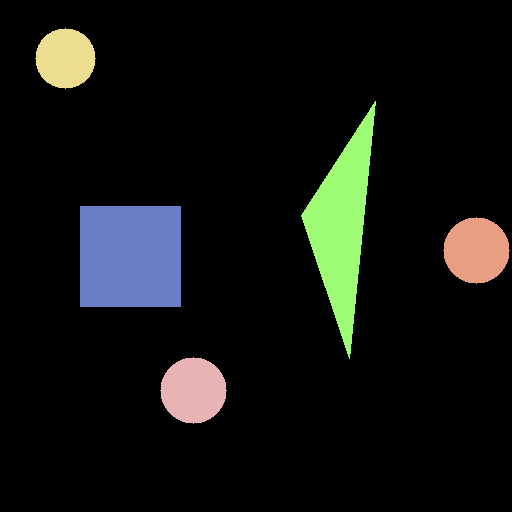circle: (160, 357, 226, 423), (443, 217, 509, 283), (35, 28, 95, 88)
square: (80, 206, 180, 306)
triangle: (301, 101, 375, 358)
